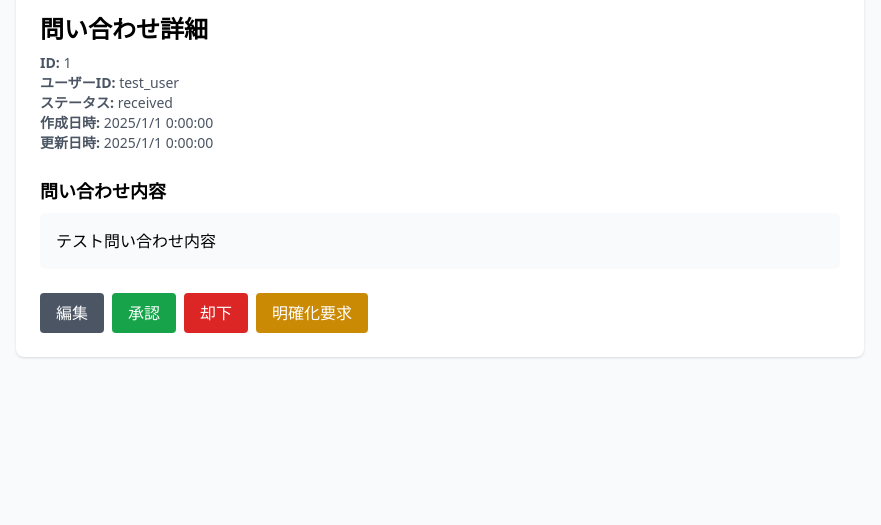
Test case: InquiryDetail › Edit mode toggle › switches to edit mode when edit button is clicked
Expected: the text "テスト問い合わせ内容" is shown, [40,213,840,269]
Step 1. Click the button "編集" → (72, 313), box [40,293,104,333]
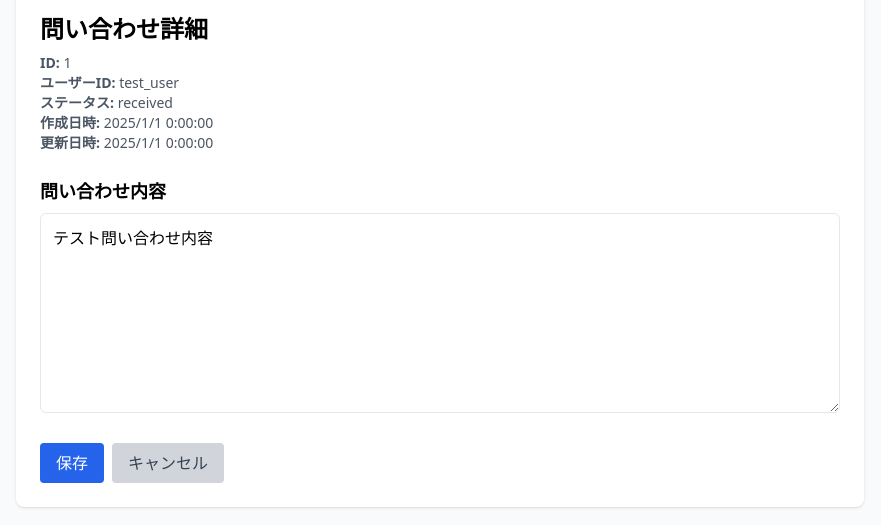
Result: the text box is shown at [40,213,840,413]
Result: the button "保存" is shown at [40,443,104,483]
Result: the button "キャンセル" is shown at [112,443,224,483]
